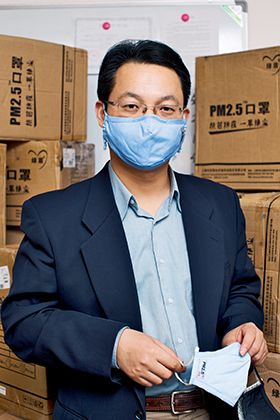face_mask: (109, 60, 182, 167)
